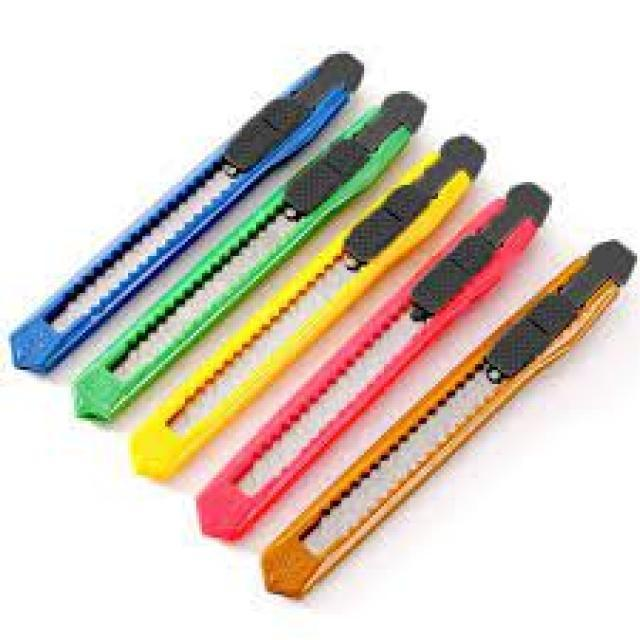cutter: (257, 224, 640, 608), (186, 174, 558, 558), (122, 124, 493, 490), (60, 82, 433, 430), (3, 42, 374, 380)
